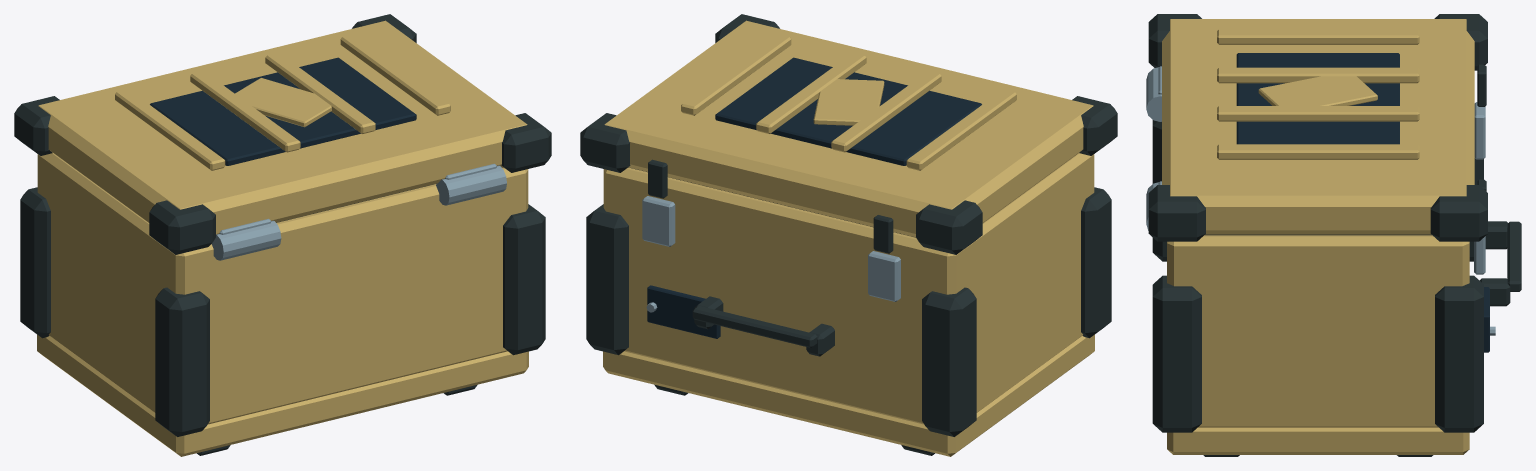
The model's file is battery_module_crate.glb.
The picture shows the model from 3 angles, left to right: view 1: azimuth 30°, elevation 25°; view 2: azimuth 150°, elevation 25°; view 3: azimuth 270°, elevation 25°; orthographic projection. The views are drawn at different scales.
Parts seen in each view (by area): view 1: body_back_wall, moving_lid, body_side_wall (×2), corner_pad (×3), body_floor, moving_lid_identity, moving_rib (×4), moving_corner_cap (×3), body_hinge (×2), moving_power_mark; view 2: body_front_wall, moving_lid, body_side_wall (×2), corner_pad (×3), body_floor, moving_lid_identity, moving_rib (×4), moving_corner_cap (×3), latch_base (×2), moving_power_mark, power_id_plate, front_carry_grip (+2 smaller); view 3: body_side_wall, moving_lid, corner_pad (×3), moving_rib (×4), body_floor, moving_lid_identity, moving_corner_cap (×4), moving_power_mark, front_carry_mount (×2), latch_base (×2), front_carry_grip, body_hinge (+5 smaller).
Part boxes in pixels (x1,y1,x2,y2): body_back_wall: (165, 167, 525, 424); moving_lid: (38, 20, 527, 234); body_side_wall (×2): (37, 154, 528, 412); corner_pad (×3): (20, 187, 545, 436); body_floor: (37, 334, 528, 456); moving_lid_identity: (150, 57, 416, 165); moving_rib (×4): (115, 34, 450, 170); moving_corner_cap (×3): (14, 96, 551, 254); body_hinge (×2): (211, 165, 506, 260); moving_power_mark: (235, 78, 331, 127); body_front_wall: (606, 167, 966, 424); moving_lid: (604, 20, 1093, 237); body_side_wall (×2): (603, 153, 1094, 412); corner_pad (×3): (586, 187, 1111, 436); body_floor: (603, 334, 1094, 456); moving_lid_identity: (715, 57, 981, 165); moving_rib (×4): (681, 34, 1016, 170); moving_corner_cap (×3): (580, 96, 1117, 254); latch_base (×2): (642, 196, 900, 301); moving_power_mark: (813, 79, 884, 125); power_id_plate: (647, 285, 720, 338); front_carry_grip: (692, 305, 817, 347); body_side_wall: (1167, 235, 1469, 427); moving_lid: (1162, 19, 1474, 234); corner_pad (×3): (1152, 120, 1483, 432); moving_rib (×4): (1217, 29, 1419, 159); body_floor: (1167, 427, 1469, 454); moving_lid_identity: (1236, 53, 1399, 144); moving_corner_cap (×4): (1148, 14, 1487, 241); moving_power_mark: (1258, 76, 1377, 105); front_carry_mount (×2): (1479, 221, 1510, 306); latch_base (×2): (1474, 102, 1485, 274); front_carry_grip: (1507, 221, 1521, 291); body_hinge: (1146, 67, 1161, 121).
Size of the model in its own units: 1.13 by 0.803 by 0.9185.
